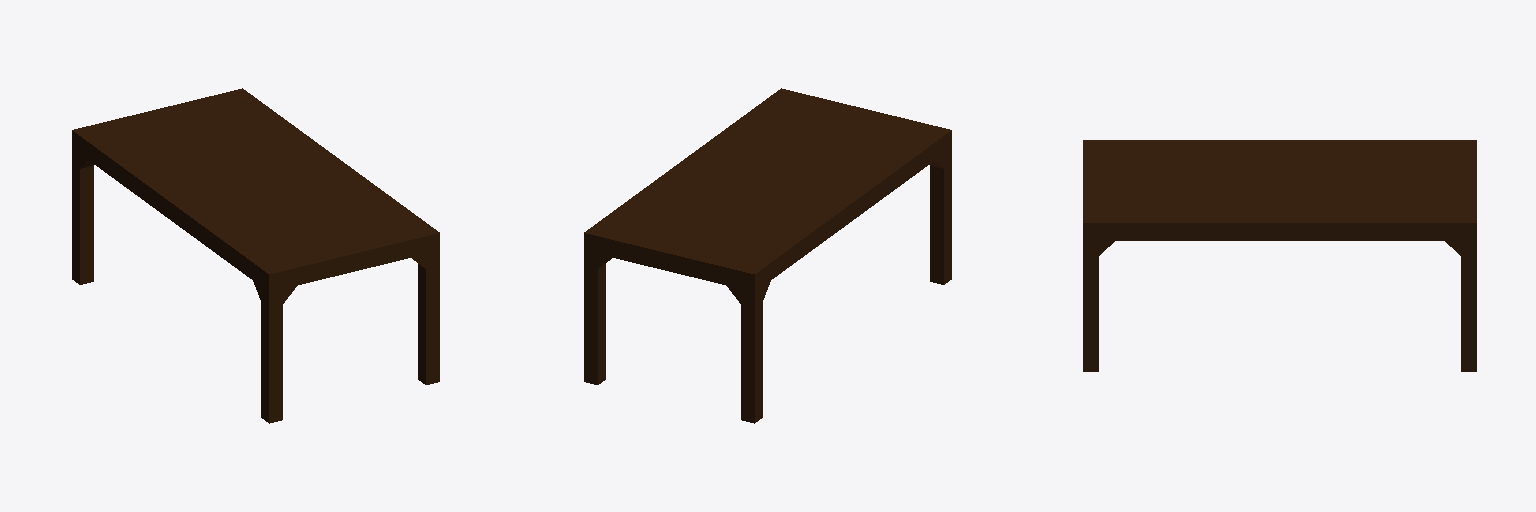
File: Table_Blender.obj
3 renders of one model, left to right at view 1: azimuth 30°, elevation 25°; view 2: azimuth 150°, elevation 25°; view 3: azimuth 270°, elevation 25°, orthographic.
Visible parts, largest first — view 1: Table; view 2: Table; view 3: Table.
Part boxes in pixels (x1,y1,x2,y2): Table: (72,88,439,423); Table: (584,88,951,423); Table: (1083,140,1476,371).
Bounding box in the file's own units: 0.6 × 0.5 × 1.2.